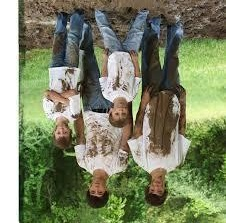earth: (150, 97, 170, 154), (86, 128, 110, 157), (112, 72, 121, 91), (54, 104, 63, 114), (64, 70, 74, 74), (62, 78, 65, 91)
